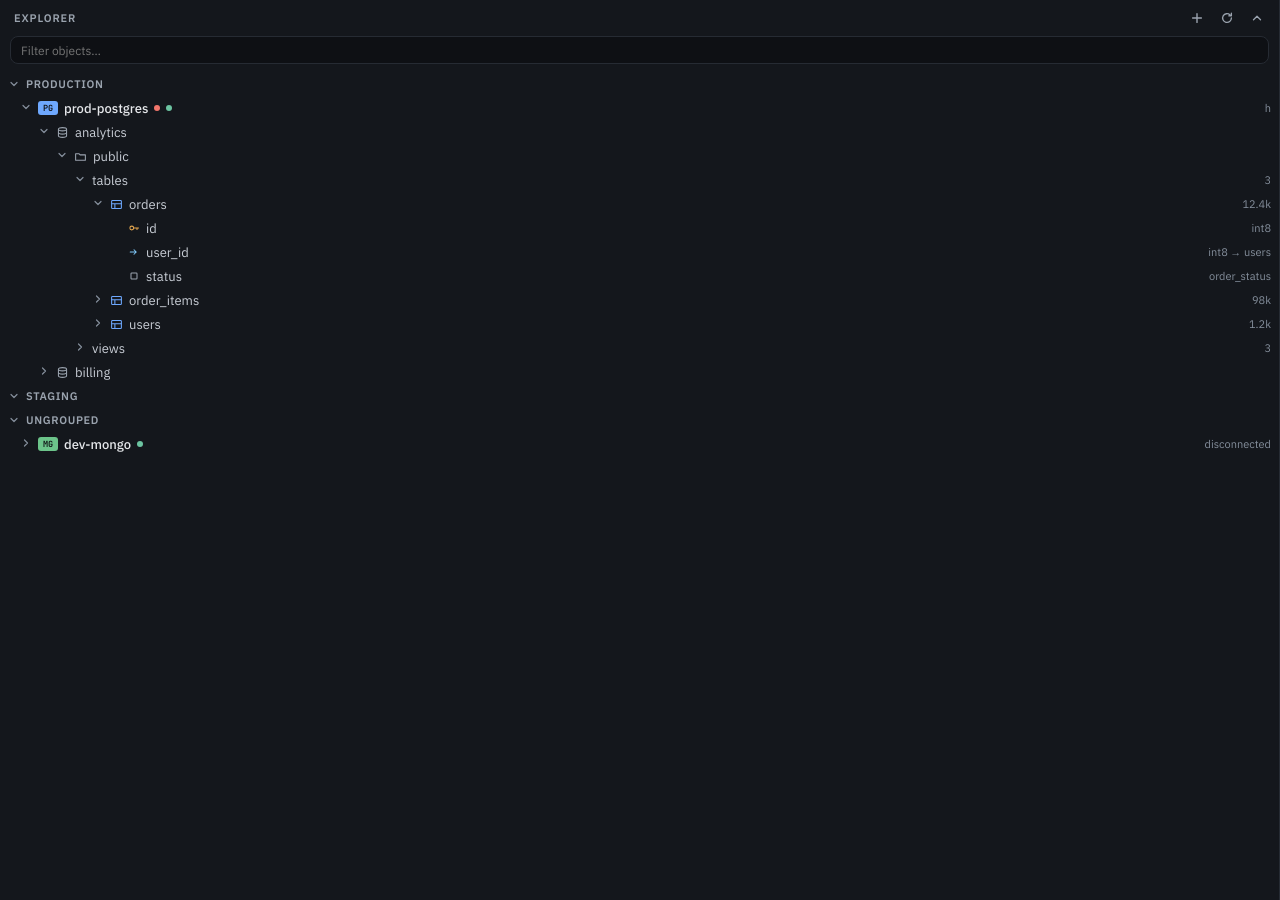
Test: filter › says so when nothing loaded matches (spec: database-explorer › Nothing matches)
Type "zzz" into the field named "Filter explorer" at (640, 50), box [10,36,1269,64]
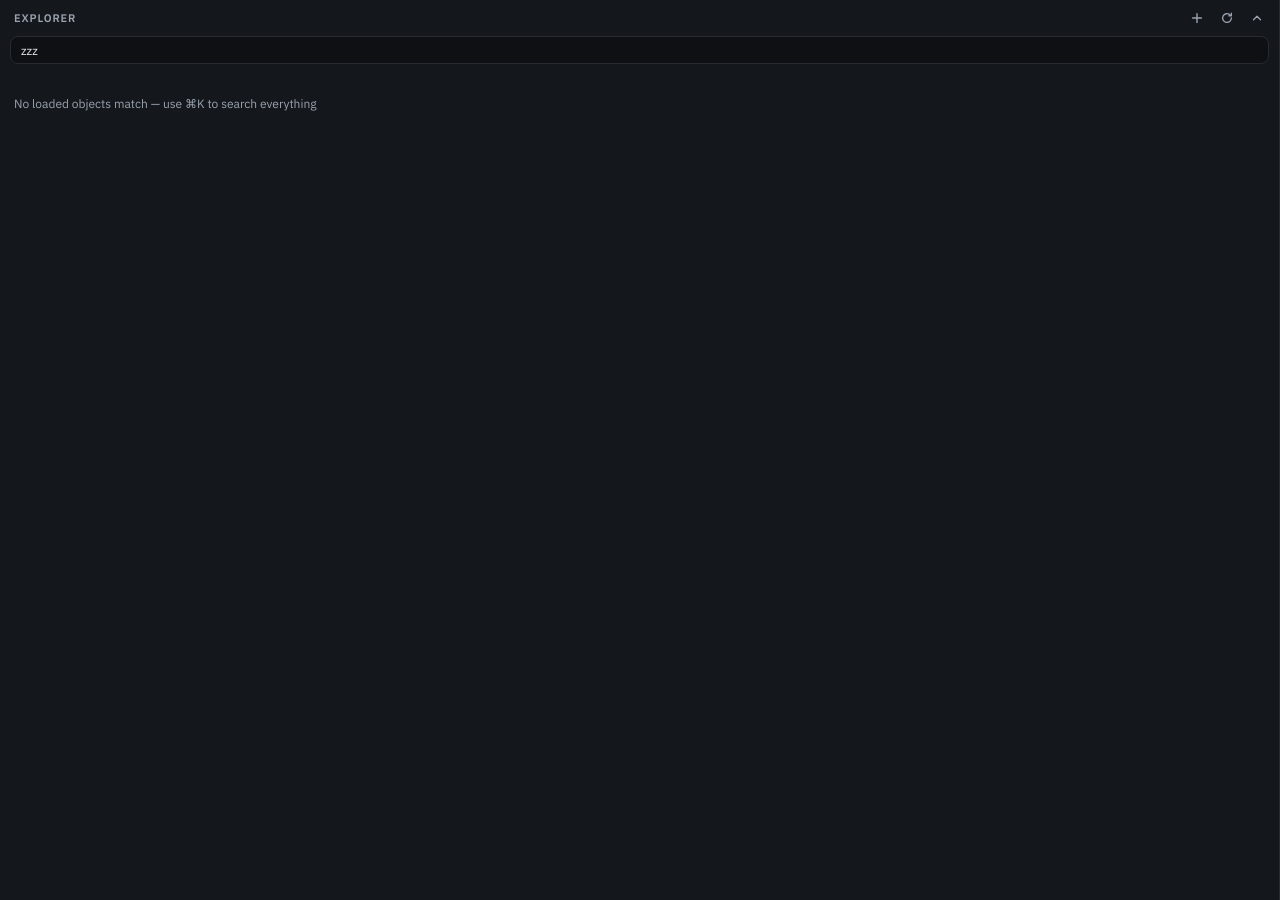
Expected: the text "No loaded objects match — use ⌘K to search everything" is shown, [14,96,317,111]
